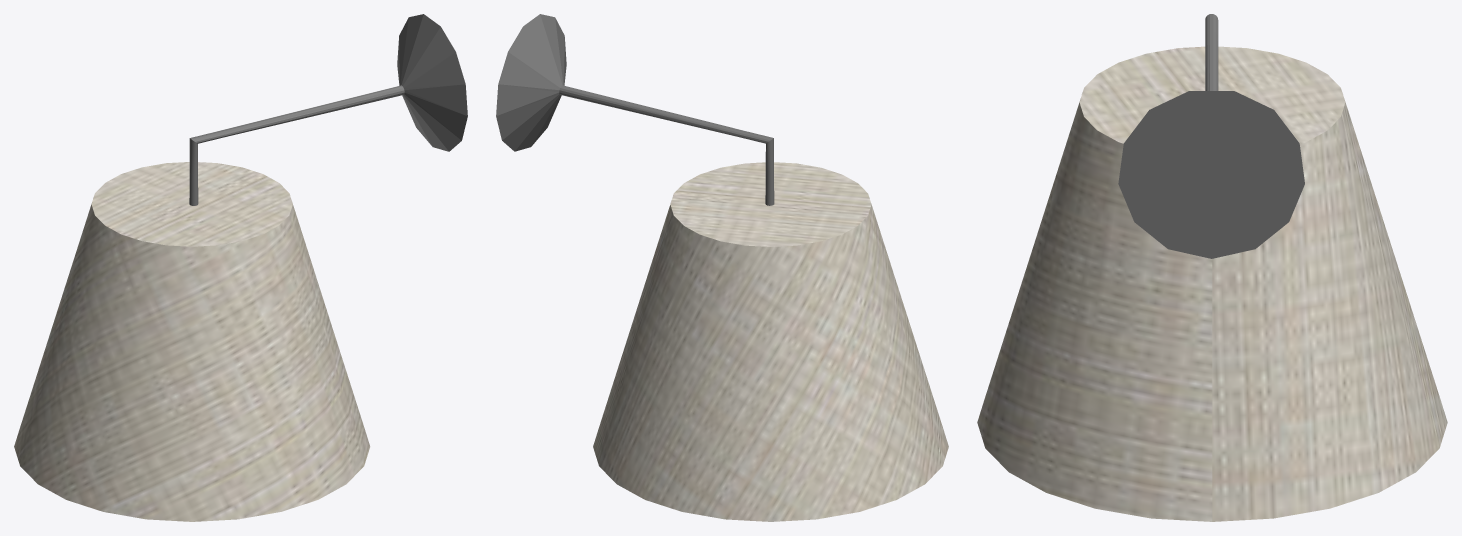
Rendered from Lamp.FBX.
The picture shows the model from 3 angles, left to right: view 1: azimuth 30°, elevation 25°; view 2: azimuth 150°, elevation 25°; view 3: azimuth 270°, elevation 25°; orthographic projection. The views are drawn at different scales.
Parts seen in each view (by area): view 1: Cone001, Cylinder001; view 2: Cone001, Cylinder001; view 3: Cone001, Cylinder001.
Part boxes in pixels (box(x1,y1,x2,y2)): Cone001: box(14, 162, 370, 521); Cylinder001: box(189, 14, 467, 205); Cone001: box(593, 162, 948, 521); Cylinder001: box(496, 14, 774, 205); Cone001: box(977, 46, 1447, 521); Cylinder001: box(1118, 14, 1304, 258).
Size of the model in its own units: 87.31 by 77.85 by 68.27.
Materials: 2 (1 with a texture image).
